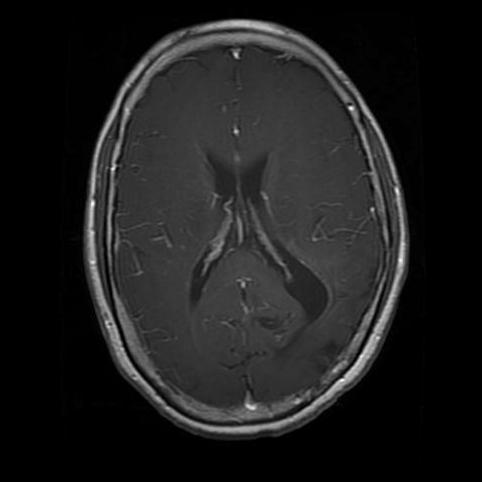Tumour-Glioma: (296, 330, 369, 374)
